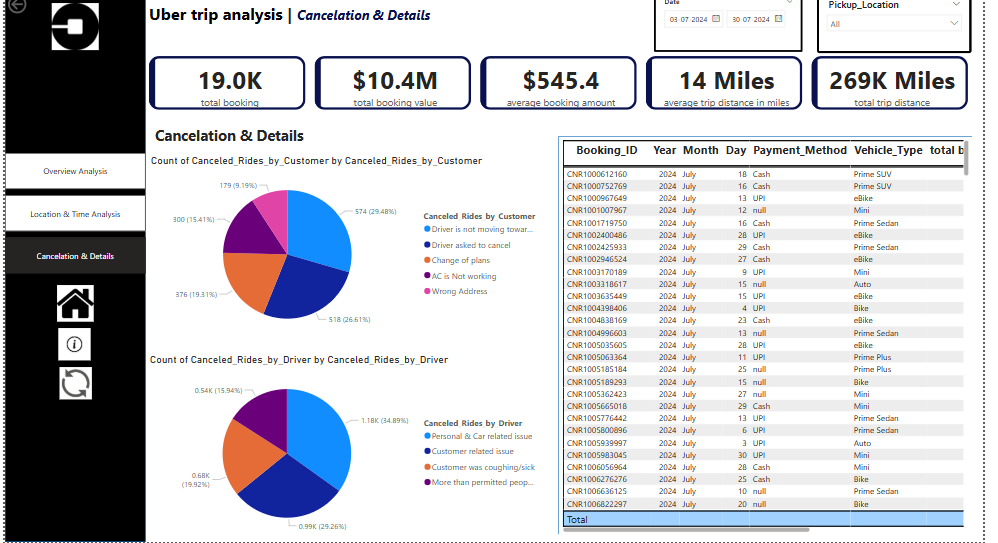

This screenshot's page, from the dashboard's own definition file:
{"tool":"powerbi","page":{"name":" Cancelation & Details","canvas":[1600,900],"ordinal":2},"visuals":[{"type":"shape","box":[0,0,230,900],"z":0},{"type":"cardVisual","fields":{"Data":["Bookings-20000-Rows - July.total booking","Bookings-20000-Rows - July.total booking value","Bookings-20000-Rows - July.average booking amount","Bookings-20000-Rows - July.average trip distance","Bookings-20000-Rows - July.total trip distance in miles"]},"box":[230,100,1351.7,98.3],"z":1000},{"type":"textbox","box":[230,12,832,56],"z":2000},{"type":"slicer","fields":{"Values":["Bookings-20000-Rows - July.Date"]},"box":[1061.7,0,243.3,98.3],"z":3000},{"type":"slicer","fields":{"Values":["Bookings-20000-Rows - July.Pickup_Location"]},"box":[1328.3,0,253.3,100],"z":4000},{"type":"pieChart","fields":{"Category":["Bookings-20000-Rows - July.Canceled_Rides_by_Customer"],"Y":["CountNonNull(Bookings-20000-Rows - July.Canceled_Rides_by_Customer)"]},"box":[234,264.6,648,309.6],"z":5000},{"type":"shape","box":[905.4,235.8,676.8,651.6],"z":6000},{"type":"pieChart","fields":{"Category":["Bookings-20000-Rows - July.Canceled_Rides_by_Driver"],"Y":["CountNonNull(Bookings-20000-Rows - July.Canceled_Rides_by_Driver)"]},"box":[232.2,590.4,649.8,309.6],"z":7000},{"type":"tableEx","fields":{"Values":["Bookings-20000-Rows - July.Booking_ID","Bookings-20000-Rows - July.Date.Variation.Date Hierarchy.Year","Bookings-20000-Rows - July.Date.Variation.Date Hierarchy.Month","Bookings-20000-Rows - July.Date.Variation.Date Hierarchy.Day","Bookings-20000-Rows - July.Payment_Method","Bookings-20000-Rows - July.Vehicle_Type","Bookings-20000-Rows - July.total booking value","Bookings-20000-Rows - July.total booking","Bookings-20000-Rows - July.Pickup_Location"]},"box":[905.4,235.8,676.8,651.6],"z":8000},{"type":"actionButton","box":[0,0,100,40],"z":9000},{"type":"pageNavigator","box":[0,262.8,230.4,199.8],"z":10000},{"type":"image","box":[80,475,70,70],"z":11000},{"type":"image","box":[80,545,66.7,63.3],"z":12000},{"type":"image","box":[80,608.3,70,63.3],"z":13000},{"type":"image","box":[65,13.3,98.3,86.7],"z":14000},{"type":"textbox","box":[234,212,648,50],"z":15000}]}

Visuals, with their boxes on the page's 1600x900 design canvas (x1, y1, x2, y2). These are canvas units, not pixel positions in the 998x543 screenshot, which may show the page scaled, cropped or inside an application window:
shape: [left=0, top=0, right=230, bottom=900]
cardVisual - Bookings-20000-Rows - July.total booking x Bookings-20000-Rows - July.total booking value: [left=230, top=100, right=1582, bottom=198]
textbox: [left=230, top=12, right=1062, bottom=68]
slicer - Bookings-20000-Rows - July.Date: [left=1062, top=0, right=1305, bottom=98]
slicer - Bookings-20000-Rows - July.Pickup_Location: [left=1328, top=0, right=1582, bottom=100]
pieChart - Bookings-20000-Rows - July.Canceled_Rides_by_Customer x CountNonNull(Bookings-20000-Rows - July.Canceled_Rides_by_Customer): [left=234, top=265, right=882, bottom=574]
shape: [left=905, top=236, right=1582, bottom=887]
pieChart - Bookings-20000-Rows - July.Canceled_Rides_by_Driver x CountNonNull(Bookings-20000-Rows - July.Canceled_Rides_by_Driver): [left=232, top=590, right=882, bottom=900]
tableEx - Bookings-20000-Rows - July.Booking_ID x Bookings-20000-Rows - July.Date.Variation.Date Hierarchy.Year: [left=905, top=236, right=1582, bottom=887]
actionButton: [left=0, top=0, right=100, bottom=40]
pageNavigator: [left=0, top=263, right=230, bottom=463]
image: [left=80, top=475, right=150, bottom=545]
image: [left=80, top=545, right=147, bottom=608]
image: [left=80, top=608, right=150, bottom=672]
image: [left=65, top=13, right=163, bottom=100]
textbox: [left=234, top=212, right=882, bottom=262]
